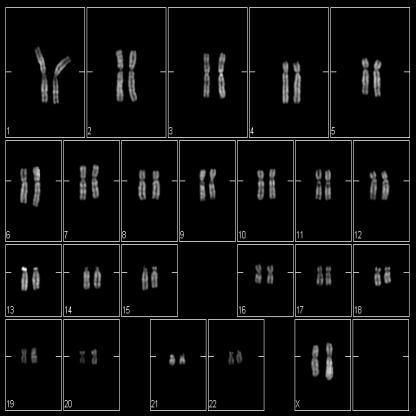1: (31, 43, 50, 106), (52, 53, 72, 107)
10: (265, 158, 279, 206), (256, 164, 266, 204)
11: (312, 162, 324, 210), (324, 156, 334, 210)
12: (378, 161, 392, 206), (367, 165, 378, 204)
13: (30, 263, 42, 294), (19, 263, 29, 294)
14: (80, 262, 92, 292), (93, 263, 102, 294)
15: (140, 263, 150, 295), (152, 264, 159, 296)
16: (252, 259, 263, 291), (266, 259, 274, 292)
17: (314, 261, 324, 289), (326, 260, 333, 290)
18: (372, 264, 383, 292), (384, 263, 393, 292)
19: (30, 342, 40, 372), (21, 342, 28, 370)
2: (114, 48, 126, 107), (128, 48, 139, 108)
20: (90, 343, 102, 370), (75, 343, 87, 368)
21: (166, 348, 178, 371), (180, 348, 188, 373)
22: (224, 348, 236, 368), (236, 344, 243, 368)
3: (198, 49, 213, 103), (217, 50, 228, 106)
4: (277, 56, 292, 106), (294, 56, 302, 108)
5: (359, 54, 369, 99), (373, 54, 382, 100)
6: (30, 160, 43, 210), (18, 165, 30, 209)
7: (88, 153, 102, 207), (76, 161, 88, 206)
8: (151, 155, 162, 205), (137, 165, 148, 204)
9: (206, 158, 219, 208), (198, 164, 208, 206)
X: (323, 340, 336, 384), (309, 340, 320, 382)
